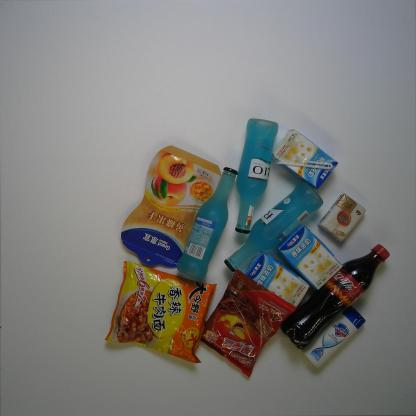Alcohol: (227, 182, 323, 273), (172, 162, 238, 282), (238, 120, 280, 233)
Dessert: (202, 269, 294, 375)
Dried Fruit: (120, 146, 221, 267)
Drink: (273, 245, 401, 347)
Instant Noodles: (106, 260, 216, 363)
Milk: (242, 251, 315, 307), (273, 129, 340, 187), (280, 228, 340, 289)
Personal Hygiene: (304, 304, 366, 368)
Tissue: (319, 192, 368, 246)
